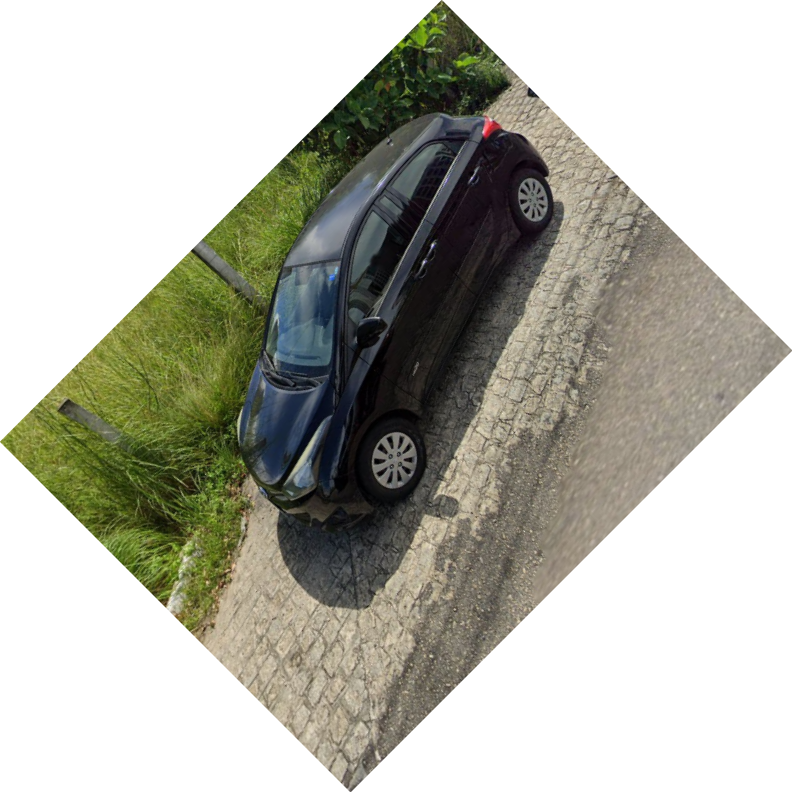car: (235, 110, 556, 536)
